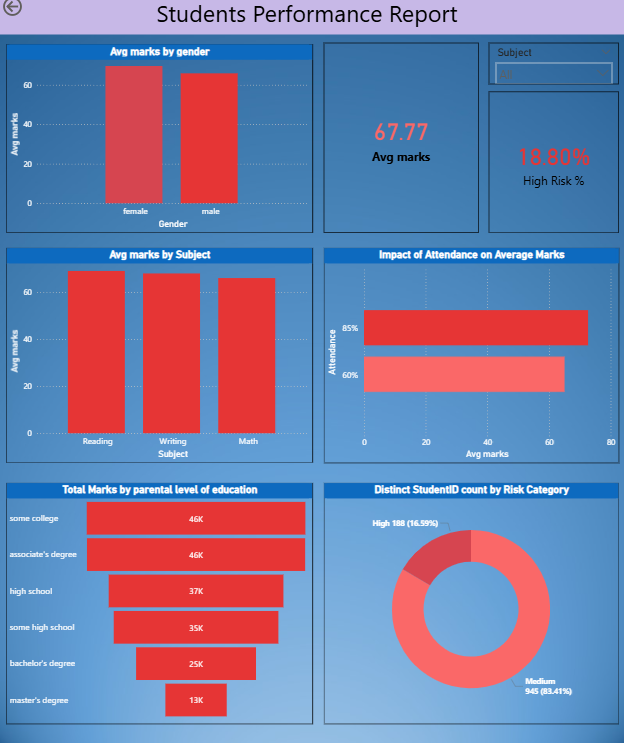

The dashboard page shown, as its layout file describes it:
{"tool":"powerbi","page":{"name":"Student's performance report","canvas":[1000,1200],"ordinal":0},"visuals":[{"type":"textbox","box":[0,0,1280,65],"z":0},{"type":"columnChart","fields":{"Category":["Students table.gender"],"Y":["Attendance.Avg marks"]},"box":[10,80,490,302],"z":1000},{"type":"card","fields":{"Values":["Attendance.Avg marks"]},"box":[518,78,248,304],"z":2000},{"type":"slicer","fields":{"Values":["Marks_Raw.Subject"]},"box":[782,78,208,66],"z":3000},{"type":"actionButton","box":[0,0,100,40],"z":4000},{"type":"barChart","title":"Impact of Attendance on Average Marks","fields":{"Y":["Attendance.Avg marks"],"Category":["Attendance.Attendance"]},"box":[517.5,405,472.5,345],"z":5000},{"type":"donutChart","fields":{"Category":["Marks_Raw.Risk Category"],"Y":["Attendance.StudentID count"]},"box":[518,782,472,386],"z":6000},{"type":"funnel","fields":{"Category":["Students table.parental level of education"],"Y":["Marks_Raw.Total Marks"]},"box":[10,782,490,386],"z":7000},{"type":"clusteredColumnChart","fields":{"Category":["Marks_Raw.Subject"],"Y":["Attendance.Avg marks"]},"box":[10,406,490,344],"z":8000},{"type":"card","fields":{"Values":["Attendance.High Risk %"]},"box":[782,156,208,226],"z":9000}]}

Visuals, with their boxes in screenshot pixels (x1, y1, x2, y2), scaled from the page's 1000x1200 canvas onto the 624x743 screenshot:
textbox: (0, 0, 623, 40)
columnChart - Students table.gender x Attendance.Avg marks: (6, 50, 312, 237)
card - Attendance.Avg marks: (323, 48, 478, 237)
slicer - Marks_Raw.Subject: (488, 48, 618, 89)
actionButton: (0, 0, 62, 25)
"Impact of Attendance on Average Marks" barChart: (323, 251, 618, 464)
donutChart - Marks_Raw.Risk Category x Attendance.StudentID count: (323, 484, 618, 723)
funnel - Students table.parental level of education x Marks_Raw.Total Marks: (6, 484, 312, 723)
clusteredColumnChart - Marks_Raw.Subject x Attendance.Avg marks: (6, 251, 312, 464)
card - Attendance.High Risk %: (488, 97, 618, 237)
